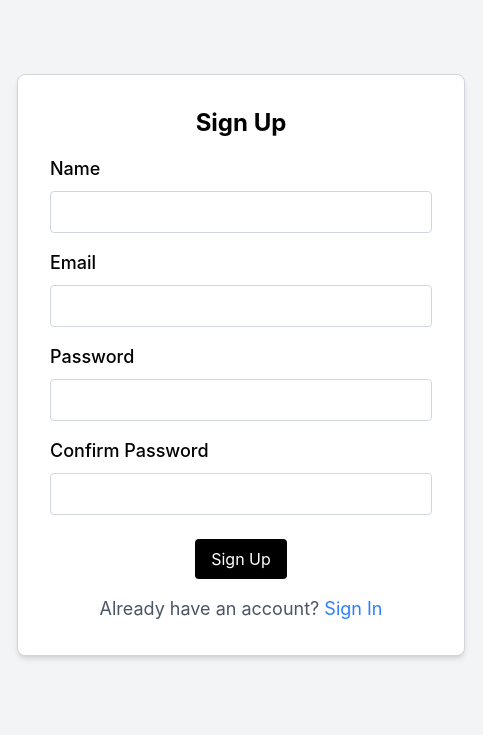
Test: Sign Up Page › ShouldShowErrorWhenPasswordsDonotMatch
This screenshot has width=483, height=735.
Type "priyansh" into the password field labelled "Password". click: (241, 400)
box: [50,379,432,421]
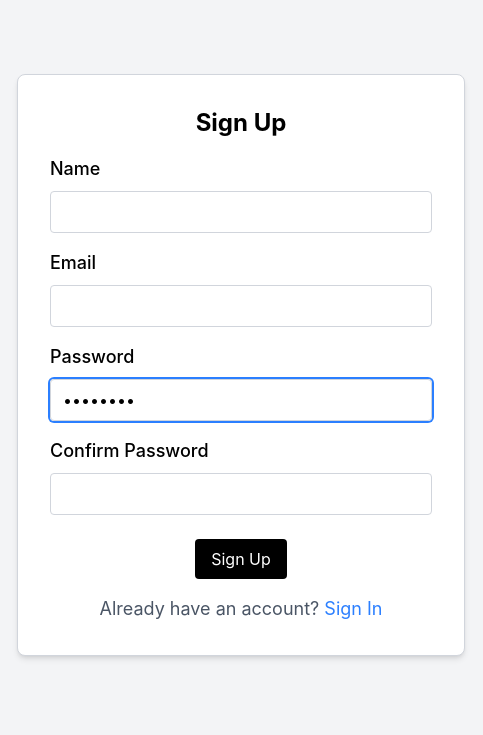
Type "PRIYANSH" into the password field labelled "Confirm Password". click: (241, 494)
box: [50,473,432,515]
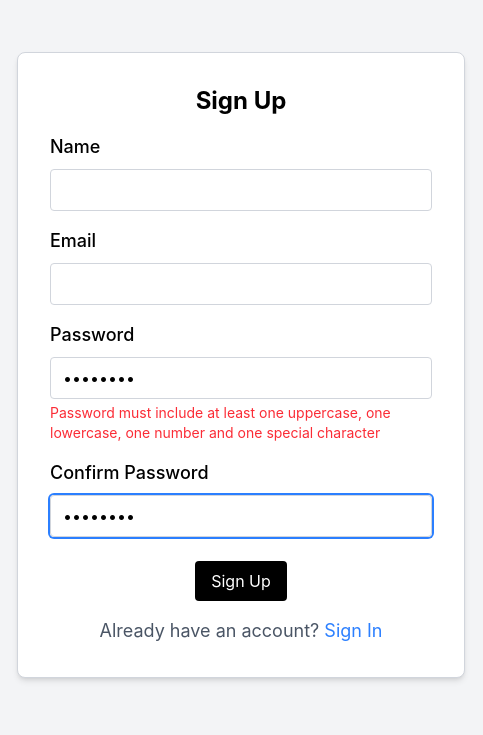
Click the button "Sign Up". click: (241, 581)
box: [195,561,287,601]
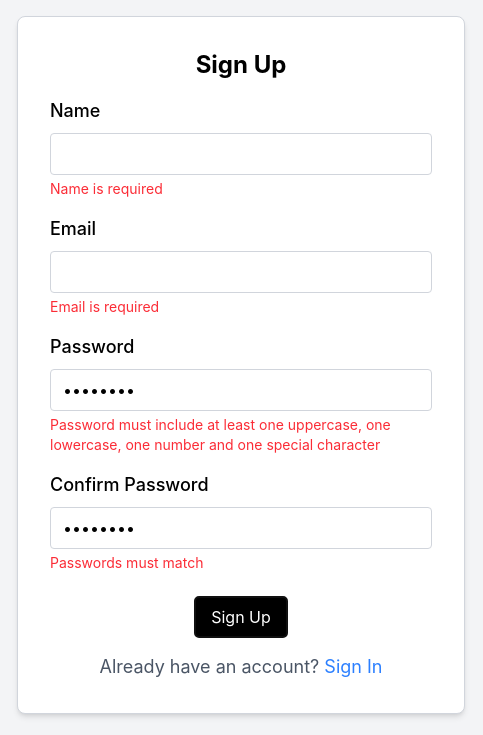
Now the text "Passwords must match" is shown, box [50,554,203,571]
